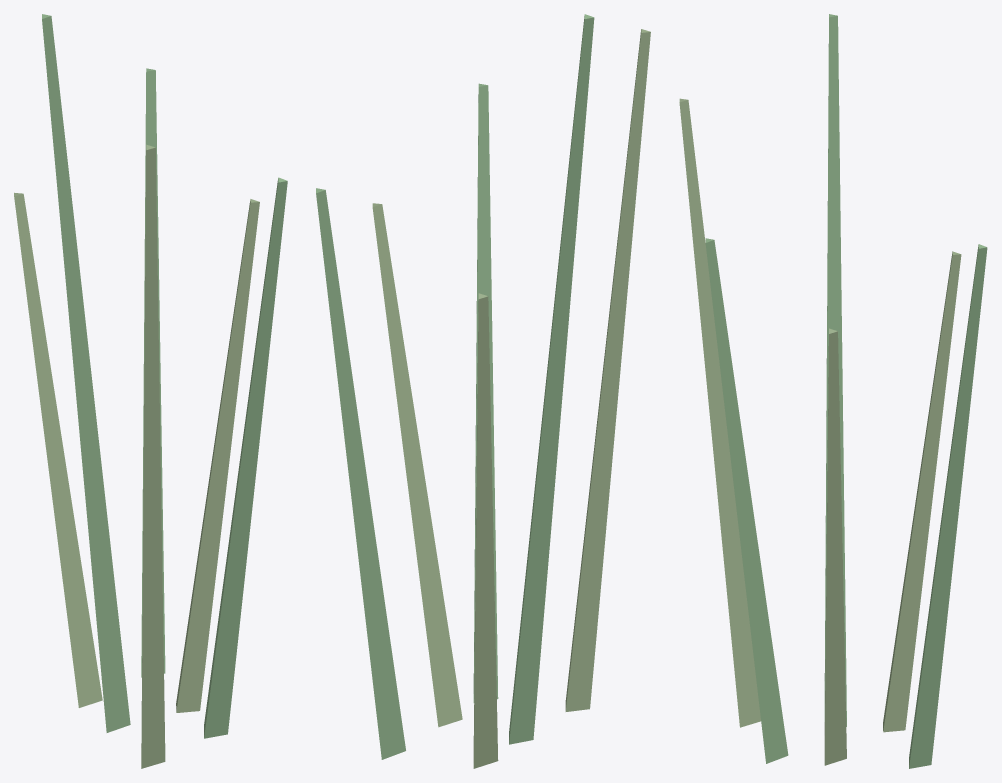
Rendered from reed_v05.glb.
3 views of the same model, side by side, from view 1: azimuth 30°, elevation 25°; view 2: azimuth 150°, elevation 25°; view 3: azimuth 270°, elevation 25° (orthographic). The views are drawn at different scales.
Parts seen in each view (by area): view 1: lod0; view 2: lod0; view 3: lod0.
Boxes of the visible parts, bbox=[...] form: lod0: bbox=[14, 14, 287, 768]; lod0: bbox=[316, 14, 650, 768]; lod0: bbox=[679, 14, 987, 768].
Size of what is drawn, in the model's own units: 0.3137 by 1 by 0.4103.
